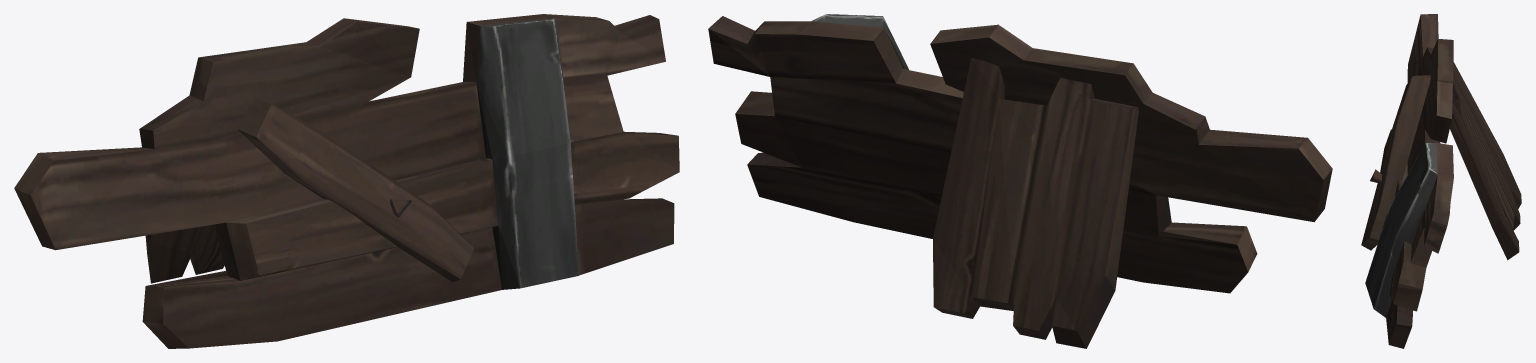
Rendered from bandit_door_barricade_02.fbx.
3 renders of one model, left to right at view 1: azimuth 30°, elevation 25°; view 2: azimuth 150°, elevation 25°; view 3: azimuth 270°, elevation 25°, orthographic. The views are drawn at different scales.
Visible parts, largest first — view 1: obj0.605; view 2: obj0.605; view 3: obj0.605.
Boxes of the visible parts, x1,y1,x2,y2 form: obj0.605: [14, 14, 679, 348]; obj0.605: [708, 14, 1332, 348]; obj0.605: [1361, 14, 1521, 348].
Bounding box in the file's own units: 3.29 × 1.34 × 1.07.
